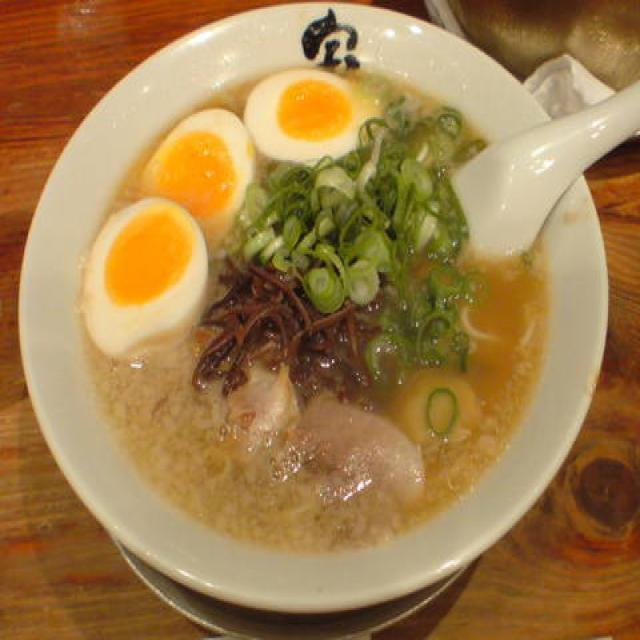面条主食: (17, 0, 600, 640)
